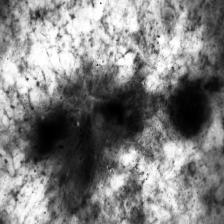Benign Marking or Mole: (23, 52, 217, 207)
